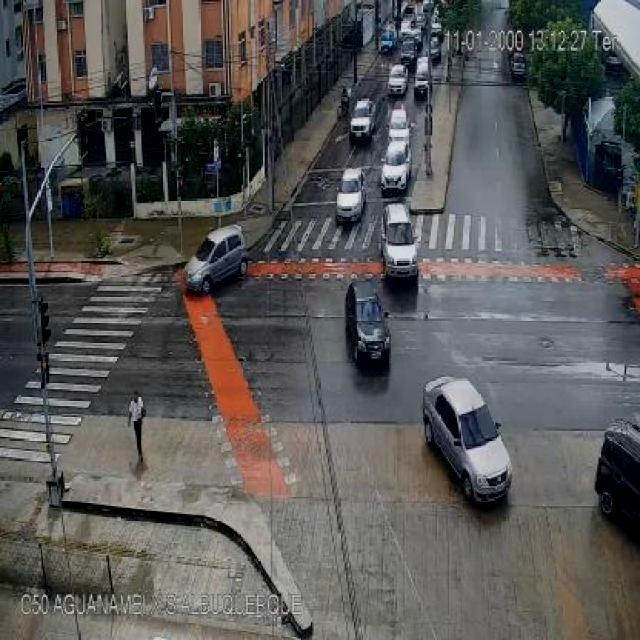Car: (424, 378, 512, 501), (183, 224, 248, 293), (344, 281, 391, 366), (379, 205, 418, 278), (380, 142, 412, 193), (336, 168, 366, 221), (348, 97, 376, 141), (387, 103, 410, 142), (387, 64, 409, 97), (414, 57, 431, 97), (399, 39, 418, 67), (511, 51, 526, 79), (379, 29, 395, 54), (428, 36, 442, 61)
